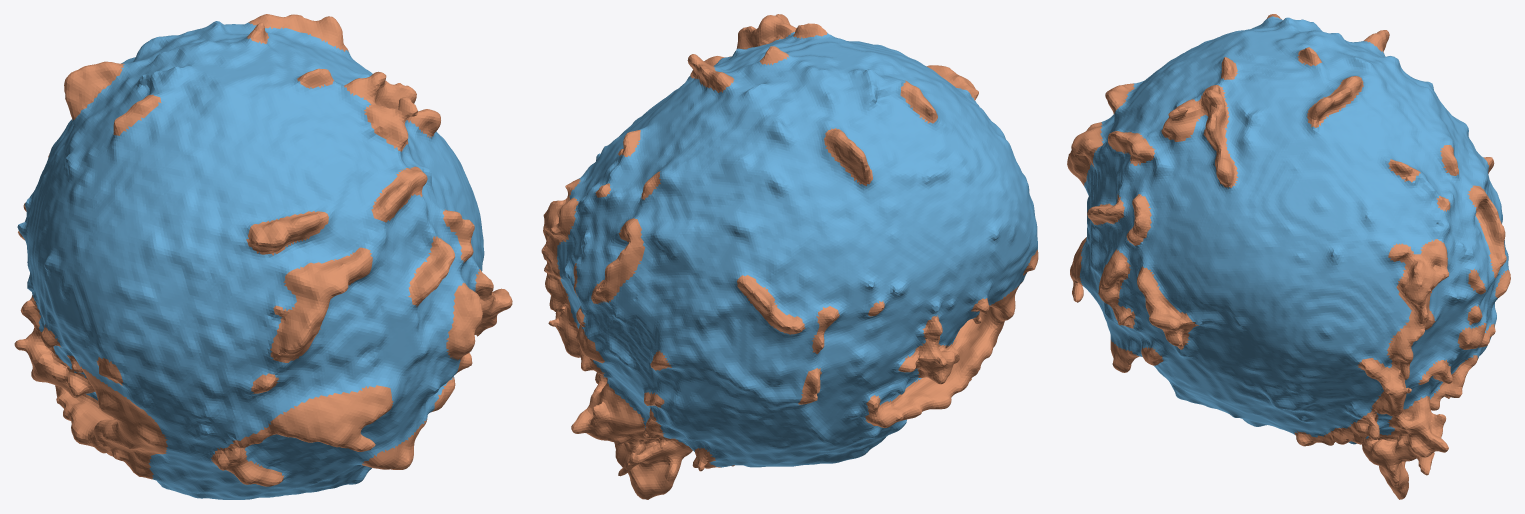
3 views of the same model, side by side, from view 1: azimuth 30°, elevation 25°; view 2: azimuth 150°, elevation 25°; view 3: azimuth 270°, elevation 25° (orthographic). The views are drawn at different scales.
Size of the model in its own units: 125 by 135 by 131.
